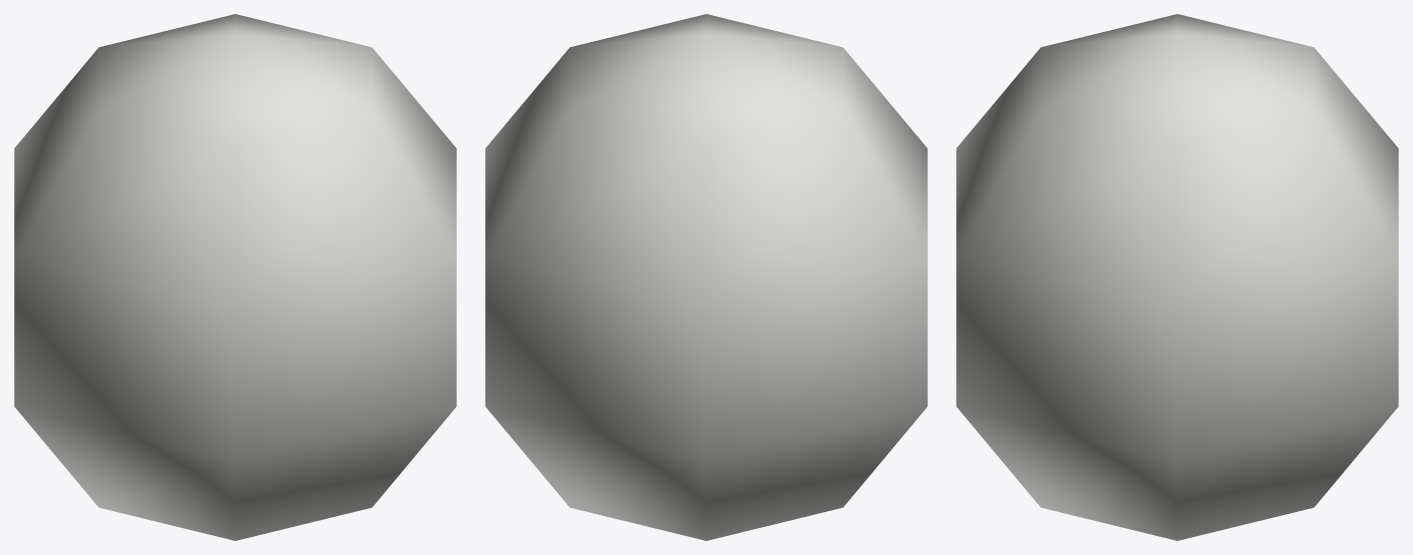
Rendered from YN_Orb.fbx.
3 renders of one model, left to right at view 1: azimuth 30°, elevation 25°; view 2: azimuth 150°, elevation 25°; view 3: azimuth 270°, elevation 25°, orthographic.
Visible parts, largest first — view 1: YN_Orb; view 2: YN_Orb; view 3: YN_Orb.
Part boxes in pixels (box(x1,y1,x2,y2)): YN_Orb: box(14, 14, 456, 540); YN_Orb: box(485, 14, 927, 540); YN_Orb: box(956, 14, 1398, 540).
Size of the model in its own units: 1.9 by 2 by 1.65.
